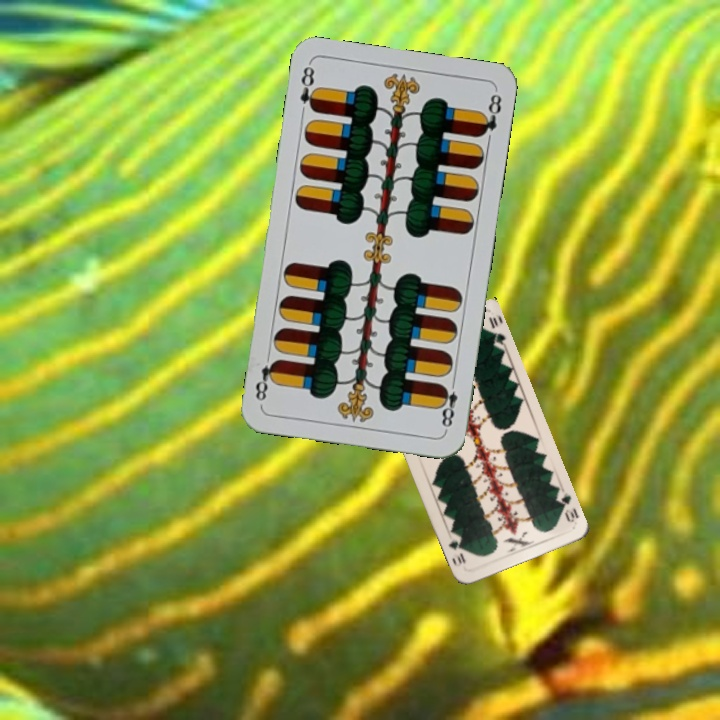E8: (435, 374, 460, 433), (296, 60, 321, 115)
G10: (552, 487, 581, 525)
